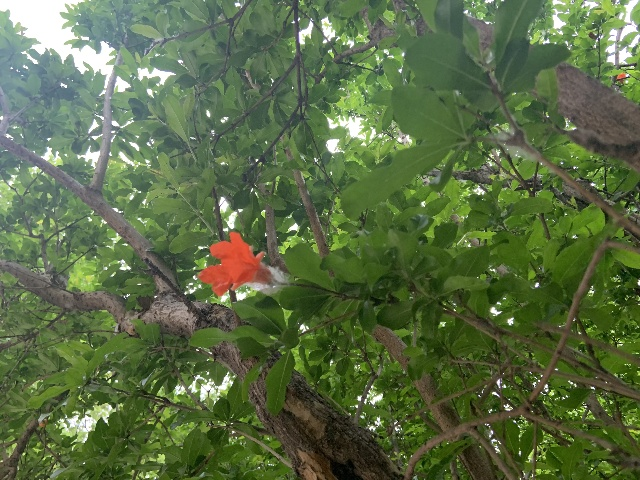flower: (197, 230, 273, 296), (616, 73, 626, 83)
